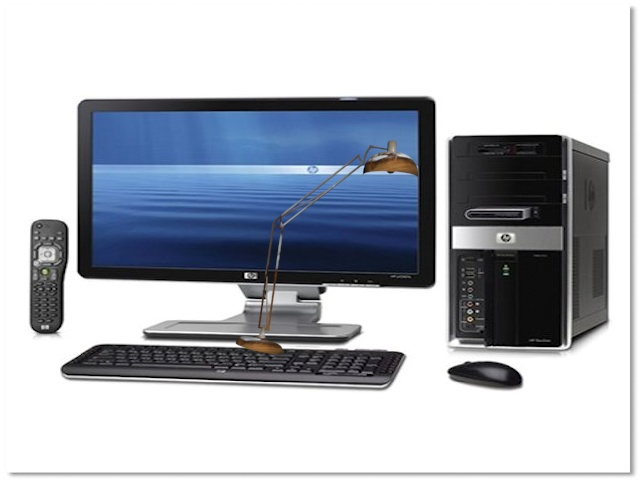desk_lamp: (224, 129, 433, 368)
